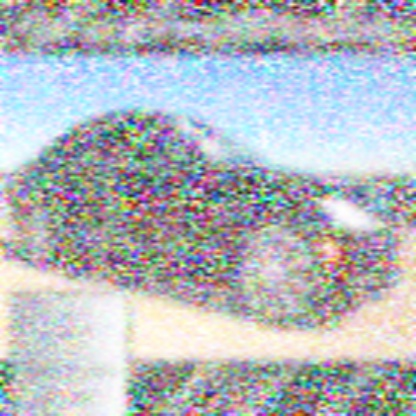Vehicle: (10, 112, 402, 329)
